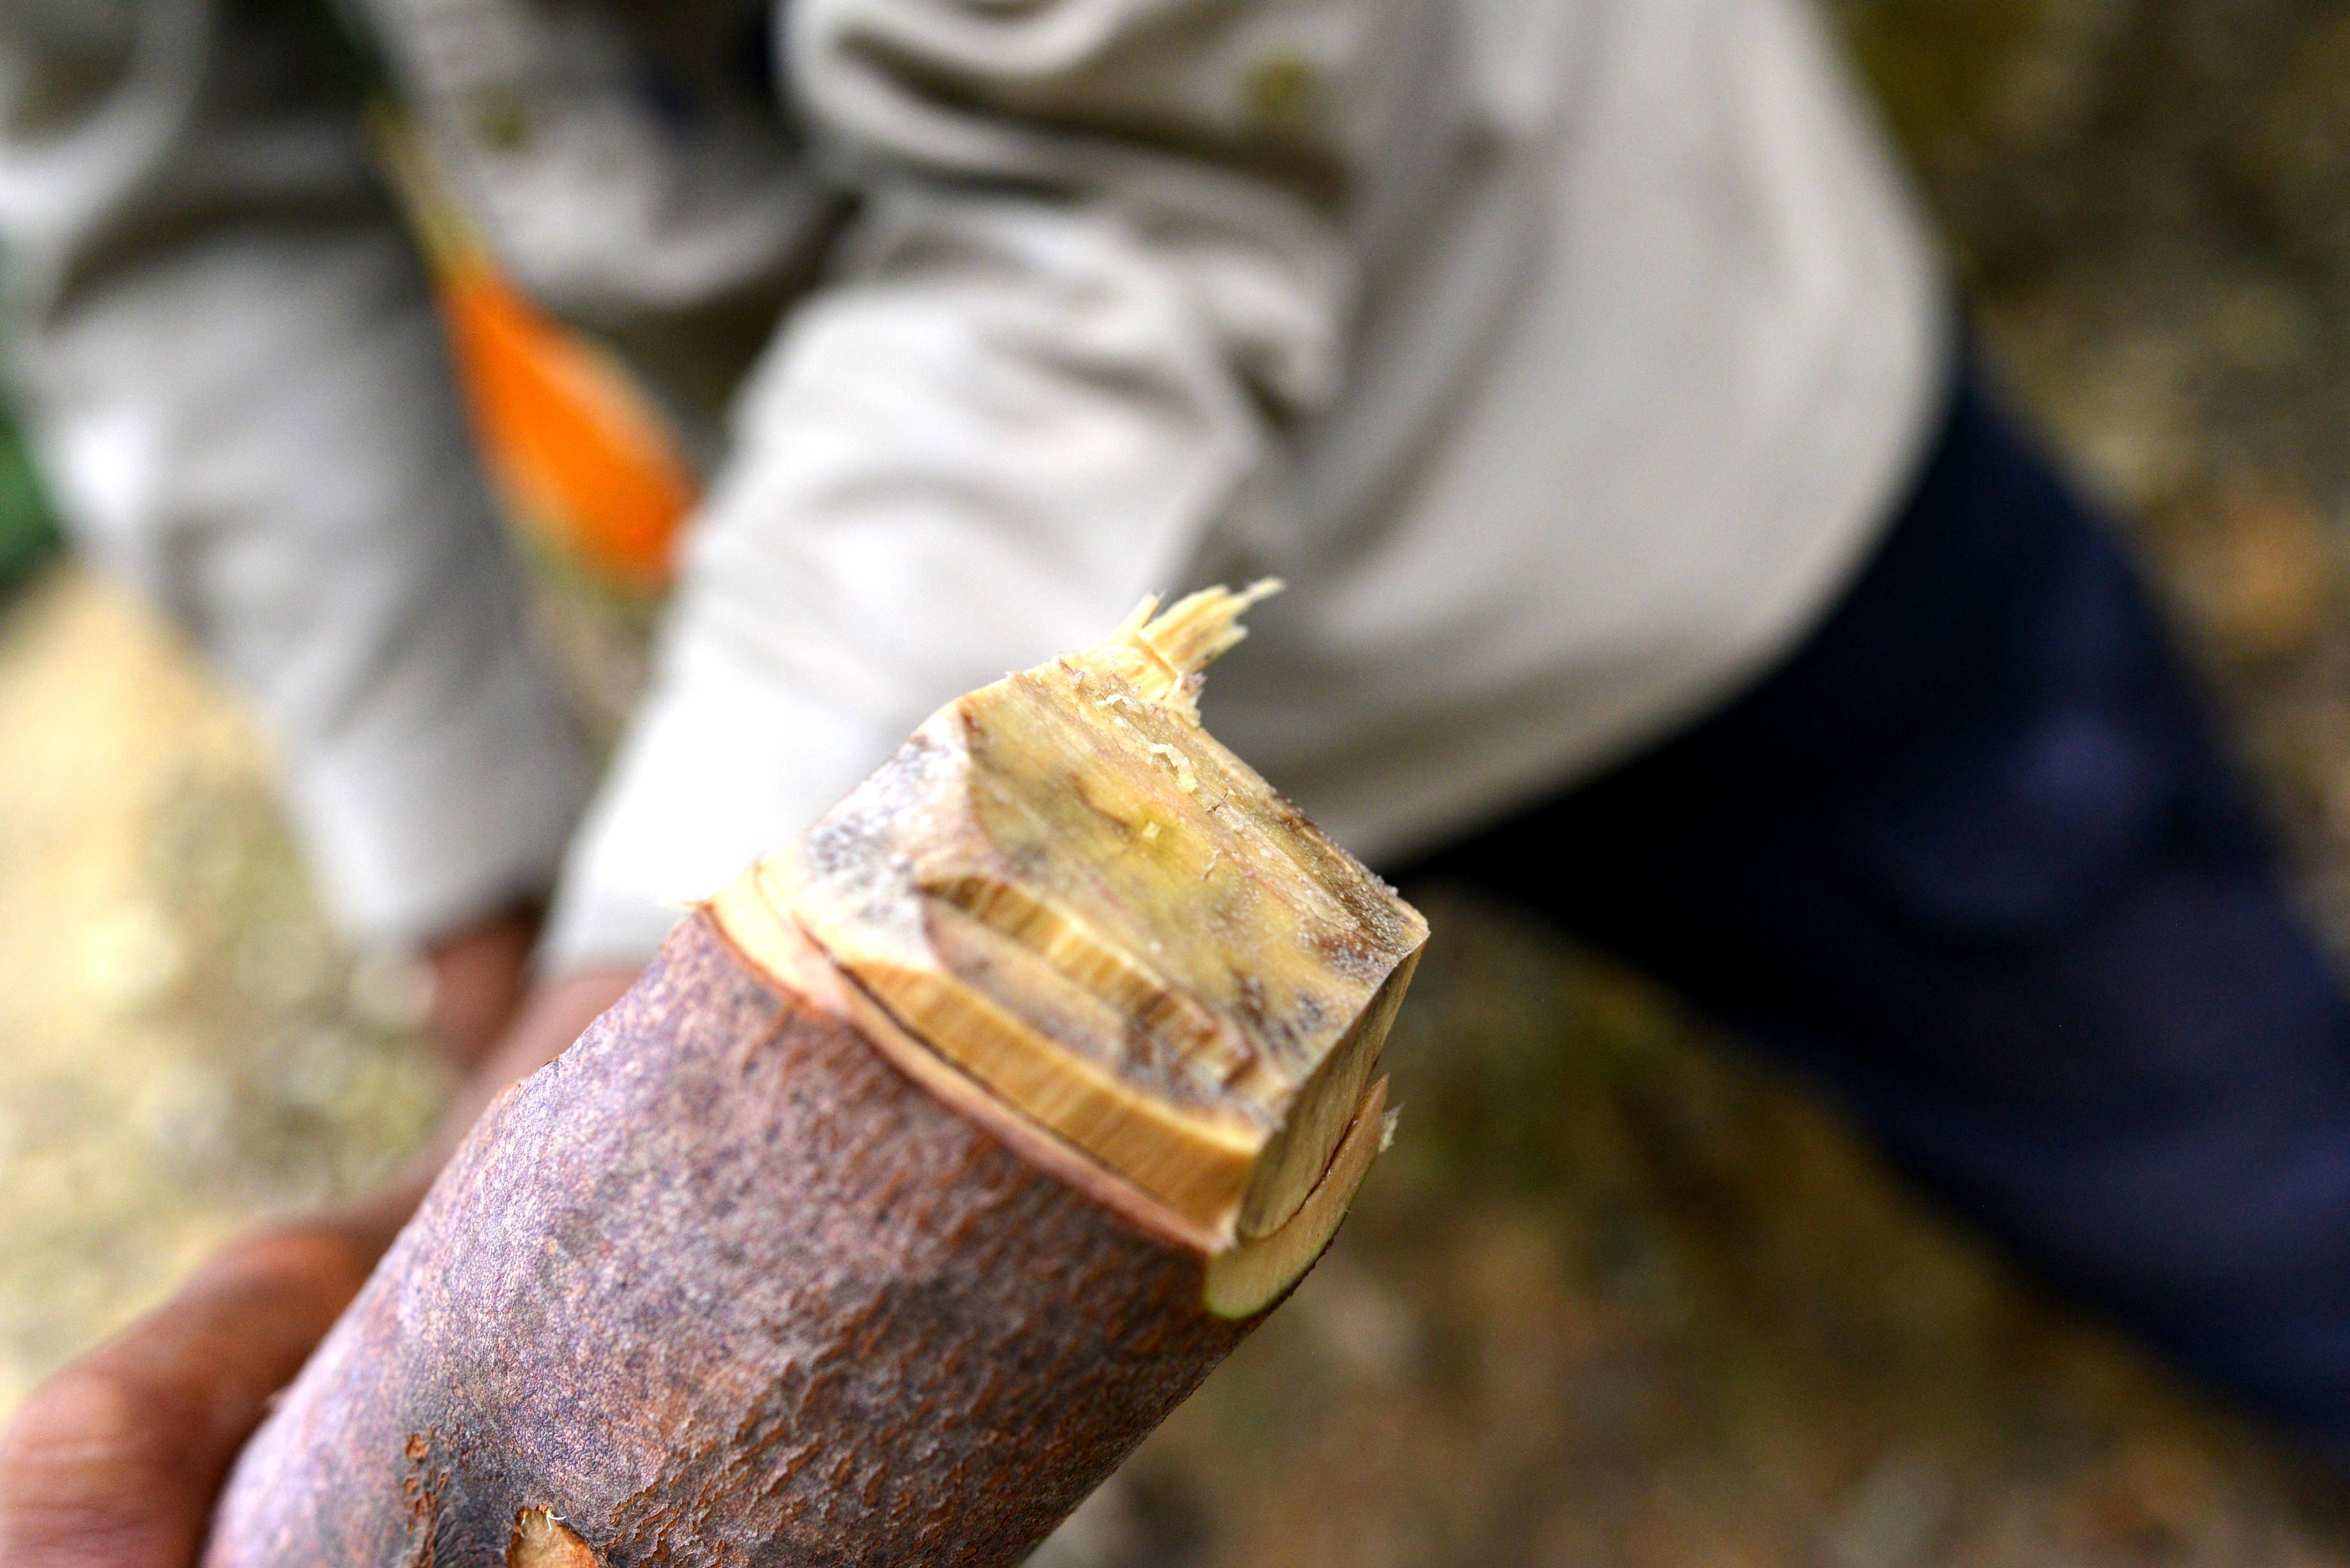Ralstonia: (791, 717, 989, 943), (1141, 926, 1351, 1083), (920, 789, 1078, 994), (1246, 810, 1400, 992), (1071, 632, 1207, 786)
